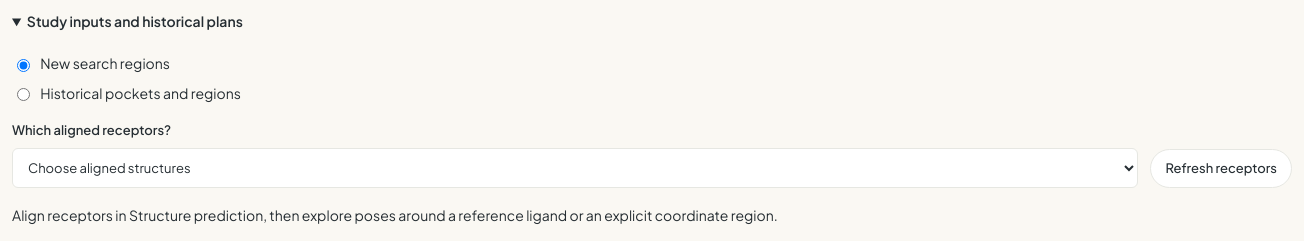
Scenario: shows a real empty source state without creating synthetic plans or poses
Check: the text "Align receptors in Structure prediction" is shown, box [12,206,778,224]
Check: the radio button labelled "New search regions" is checked, box [17,59,30,72]
Click the radio button labelled "Historical pockets and regions".
click(24, 95)  # box [17,88,30,101]
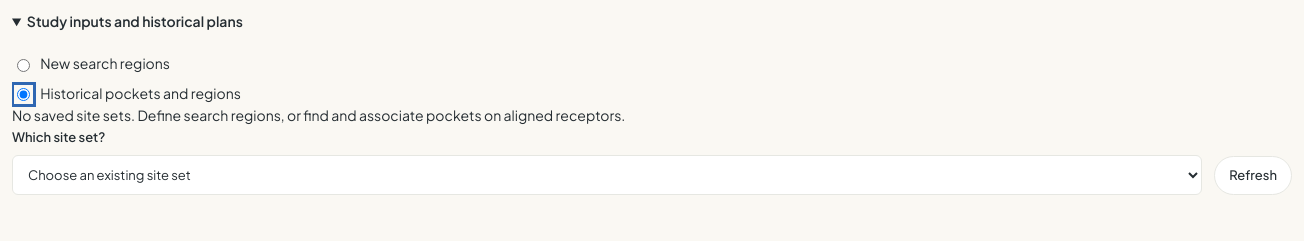
Check: the dropdown labelled "Which site set?" shows "Choose an existing site set", box [12,154,1202,194]
